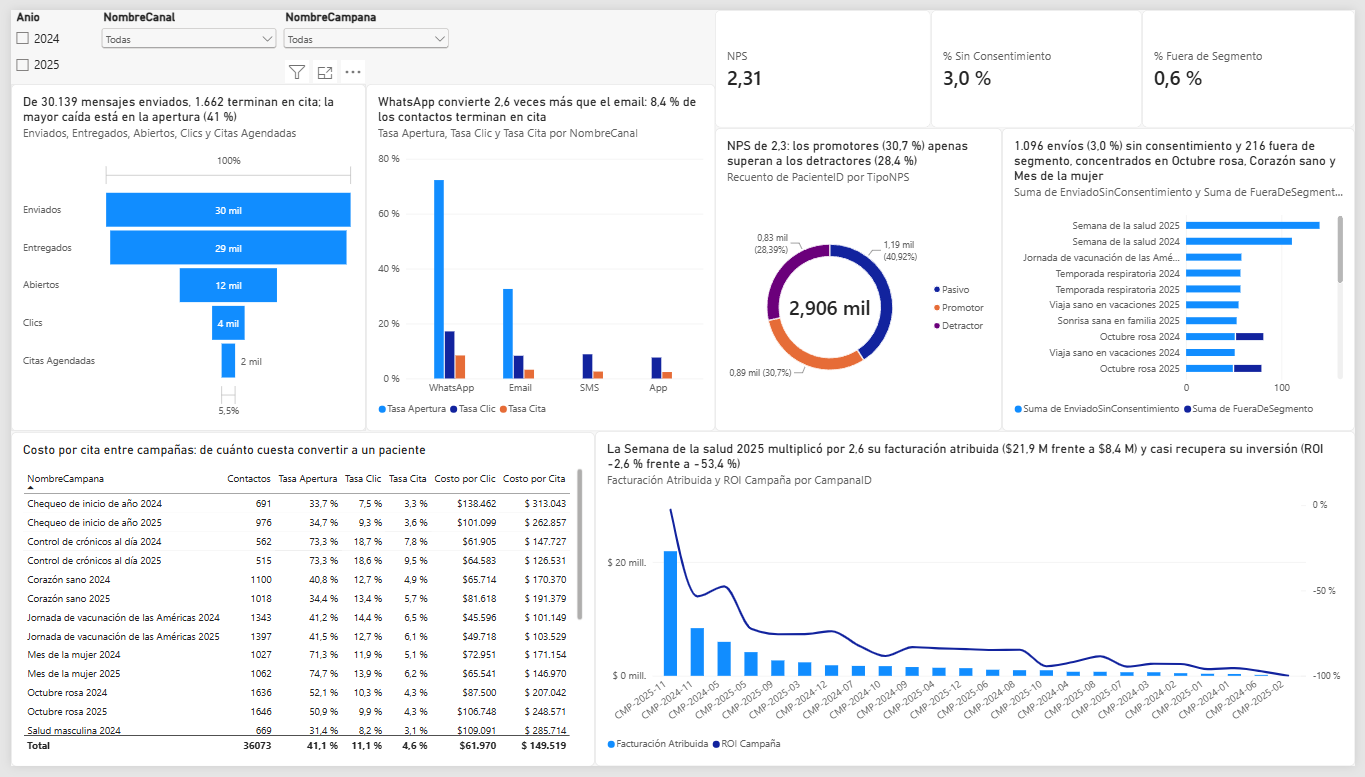

The page's visual inventory and layout, read from the dashboard file:
{"tool":"powerbi","page":{"name":"Campañas y experiencia","canvas":[1920,1080],"ordinal":2},"visuals":[{"type":"slicer","fields":{"Values":["DIM_Tiempo.Anio"]},"box":[0,0,246.2,105],"z":0},{"type":"slicer","fields":{"Values":["DIM_CanalContacto.NombreCanal"]},"box":[123.8,0,260,105],"z":1000},{"type":"slicer","fields":{"Values":["DIM_Campana.NombreCampana"]},"box":[383.8,0,246.2,105],"z":2000},{"type":"funnel","title":"De 30.139 mensajes enviados, 1.662 terminan en cita; la mayor caída está en la apertura (41 %)","fields":{"Y":["_Medidas.Enviados","_Medidas.Entregados","_Medidas.Abiertos","_Medidas.Clics","_Medidas.Citas Agendadas"]},"box":[0,105.7,507.1,495.7],"z":3000},{"type":"clusteredColumnChart","title":"WhatsApp convierte 2,6 veces más que el email: 8,4 % de los contactos terminan en cita","fields":{"Category":["DIM_CanalContacto.NombreCanal"],"Y":["_Medidas.Tasa Apertura","_Medidas.Tasa Clic","_Medidas.Tasa Cita"]},"box":[507.1,105.7,498.6,495.7],"z":4000},{"type":"tableEx","title":"Costo por cita entre campañas: de cuánto cuesta convertir a un paciente","fields":{"Values":["DIM_Campana.NombreCampana","_Medidas.Contactos","_Medidas.Tasa Apertura","_Medidas.Tasa Clic","_Medidas.Tasa Cita","_Medidas.Costo por Clic","_Medidas.Costo por Cita"]},"box":[0,602.9,833.8,477.5],"z":5000},{"type":"lineClusteredColumnComboChart","title":"La Semana de la salud 2025 multiplicó por 2,6 su facturación atribuida ($21,9 M frente a $8,4 M) y casi recupera su inversión (ROI −2,6 % frente a −53,4 %)","fields":{"Category":["DIM_Campana.CampanaID"],"Y":["_Medidas.Facturación Atribuida"],"Y2":["_Medidas.ROI Campaña"]},"box":[834.3,601.4,1086.2,478.8],"z":6000},{"type":"cardVisual","fields":{"Data":["_Medidas.NPS"]},"box":[1005.7,0,308.6,168.6],"z":7000},{"type":"donutChart","title":"NPS de 2,3: los promotores (30,7 %) apenas superan a los detractores (28,4 %)","fields":{"Category":["DIM_Paciente.TipoNPS"],"Y":["CountNonNull(DIM_Paciente.PacienteID)"]},"box":[1005.7,168.6,410,432.9],"z":8000},{"type":"cardVisual","fields":{"Data":["_Medidas.% Sin Consentimiento"]},"box":[1314.3,0,301.4,168.6],"z":9000},{"type":"cardVisual","fields":{"Data":["_Medidas.% Fuera de Segmento"]},"box":[1615.7,0,304.3,168.6],"z":10000},{"type":"barChart","title":"1.096 envíos (3,0 %) sin consentimiento y 216 fuera de segmento, concentrados en Octubre rosa, Corazón sano y Mes de la mujer","fields":{"Category":["DIM_Campana.NombreCampana"],"Y":["Sum(FACT_InteraccionCampana.EnviadoSinConsentimiento)","Sum(FACT_InteraccionCampana.FueraDeSegmento)"]},"box":[1415.7,168.6,504.3,432.9],"z":10001}]}

Visuals, with their boxes in screenshot pixels (x1, y1, x2, y2), scaled from the page's 1920x1080 canvas onto the 1365x777 screenshot:
slicer - DIM_Tiempo.Anio: crop(0, 0, 175, 76)
slicer - DIM_CanalContacto.NombreCanal: crop(88, 0, 273, 76)
slicer - DIM_Campana.NombreCampana: crop(273, 0, 448, 76)
"De 30.139 mensajes enviados, 1.662 terminan en cita; la mayor caída está en la apertura (41 %)" funnel: crop(0, 76, 361, 433)
"WhatsApp convierte 2,6 veces más que el email: 8,4 % de los contactos terminan en cita" clusteredColumnChart: crop(361, 76, 715, 433)
"Costo por cita entre campañas: de cuánto cuesta convertir a un paciente" tableEx: crop(0, 434, 593, 776)
"La Semana de la salud 2025 multiplicó por 2,6 su facturación atribuida ($21,9 M frente a $8,4 M) y casi recupera su inversión (ROI −2,6 % frente a −53,4 %)" lineClusteredColumnComboChart: crop(593, 433, 1364, 776)
cardVisual - _Medidas.NPS: crop(715, 0, 934, 121)
"NPS de 2,3: los promotores (30,7 %) apenas superan a los detractores (28,4 %)" donutChart: crop(715, 121, 1006, 433)
cardVisual - _Medidas.% Sin Consentimiento: crop(934, 0, 1149, 121)
cardVisual - _Medidas.% Fuera de Segmento: crop(1149, 0, 1364, 121)
"1.096 envíos (3,0 %) sin consentimiento y 216 fuera de segmento, concentrados en Octubre rosa, Corazón sano y Mes de la mujer" barChart: crop(1006, 121, 1364, 433)
